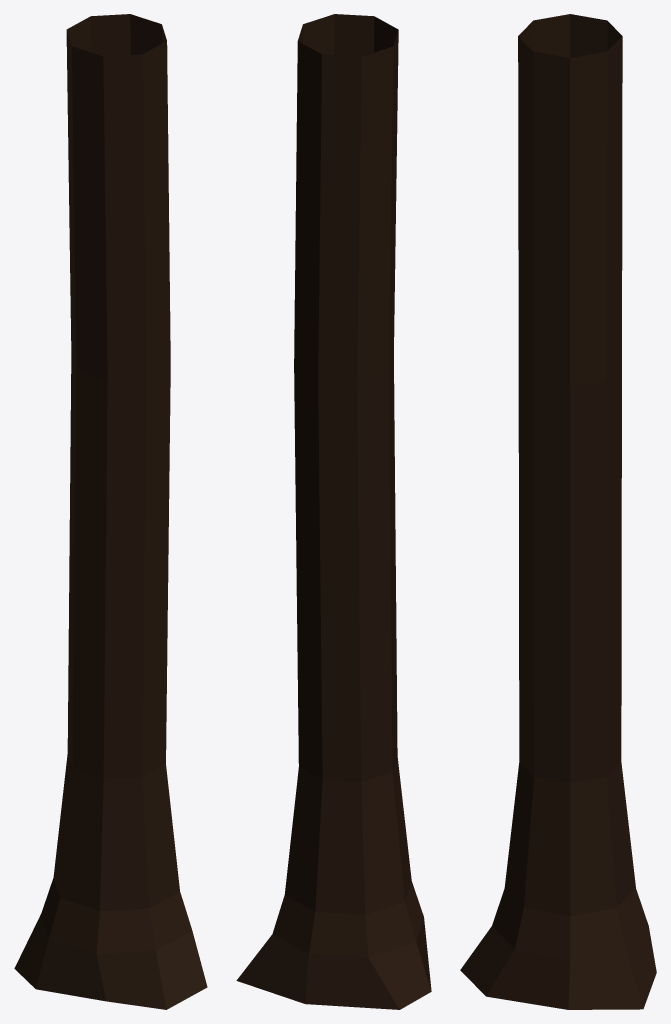
Rendered from s_tree_03.FBX.
The picture shows the model from 3 angles, left to right: view 1: azimuth 30°, elevation 25°; view 2: azimuth 150°, elevation 25°; view 3: azimuth 270°, elevation 25°; orthographic projection.
Parts seen in each view (by area): view 1: s_tree_03; view 2: s_tree_03; view 3: s_tree_03.
Part boxes in pixels (left/top/right/bottom): s_tree_03: left=14, top=14, right=207, bottom=1009; s_tree_03: left=236, top=14, right=431, bottom=1009; s_tree_03: left=460, top=14, right=656, bottom=1009.
Bounding box in the file's own units: 0.6948 × 3.92 × 0.7457.
